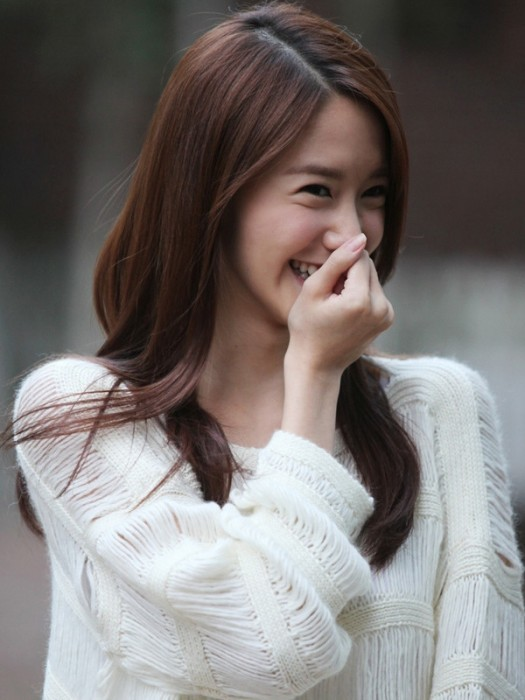face: (243, 95, 389, 334)
